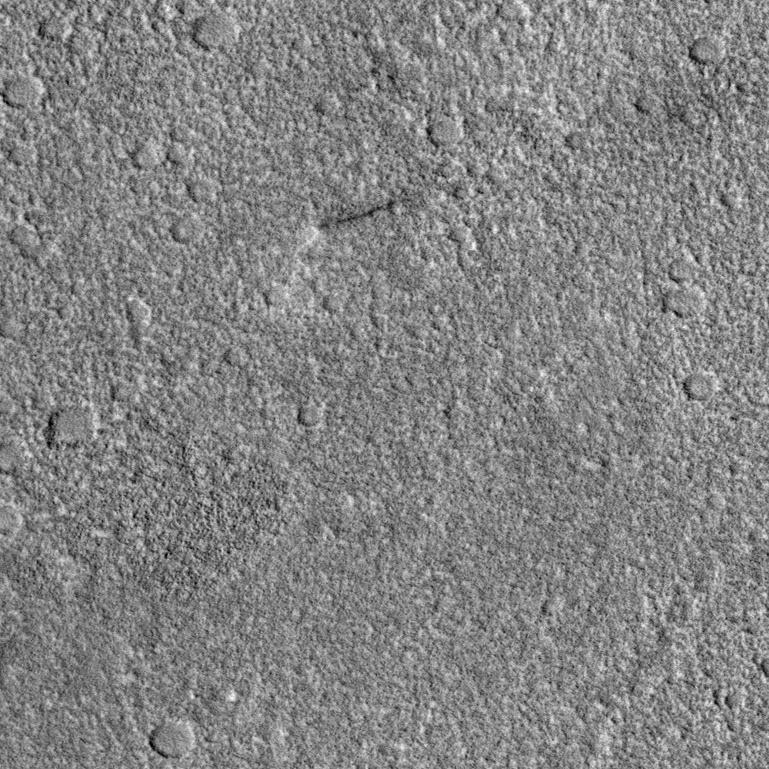dust_devil: (296, 198, 402, 253)
